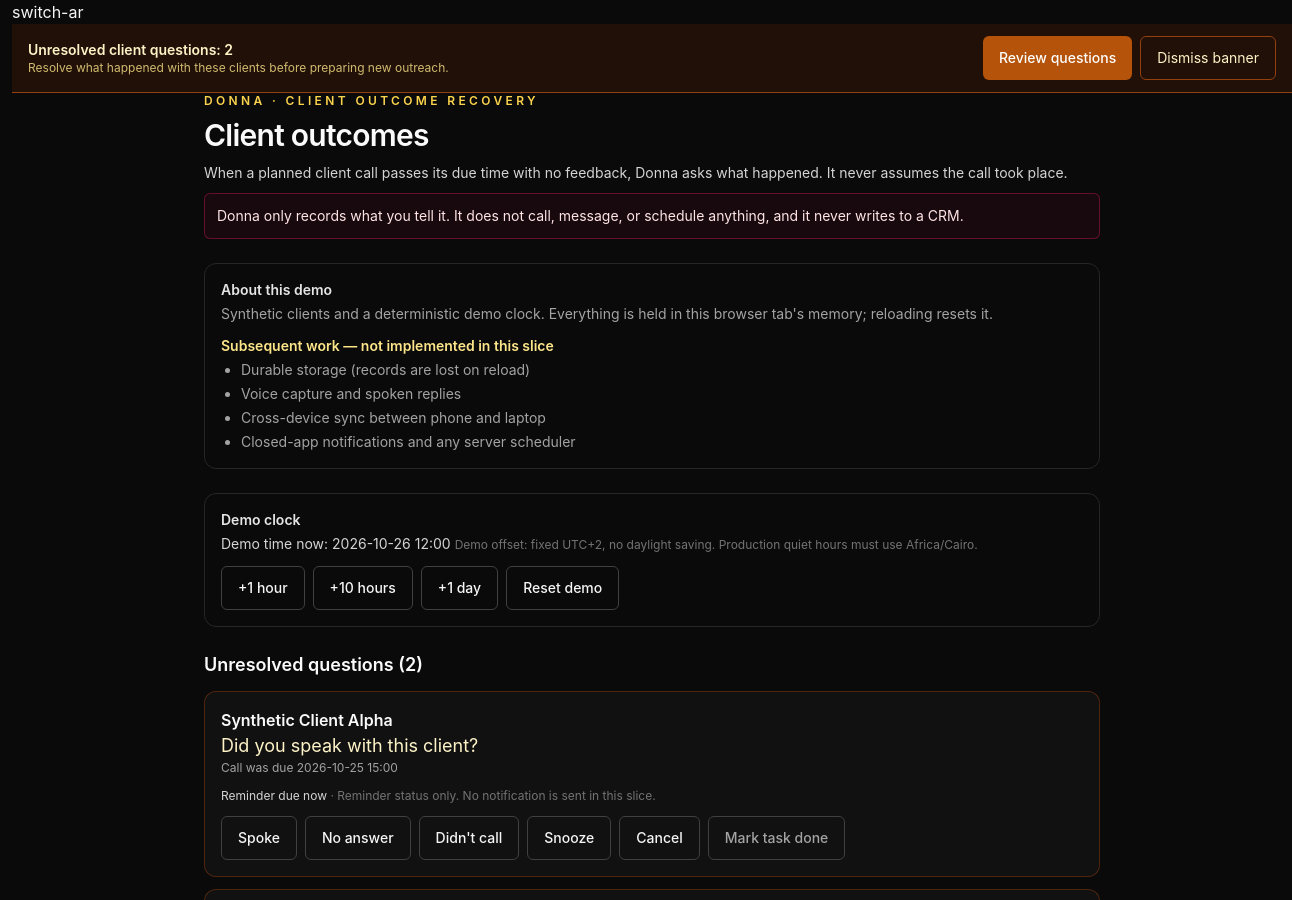
Test: Donna inbox (English) › Gamma (due 13:00Z) needs three +1 hour clicks from the 10:00Z demo start
Click the button "+1 hour" at [263, 588], box x1=221 y1=566 x2=305 y2=610
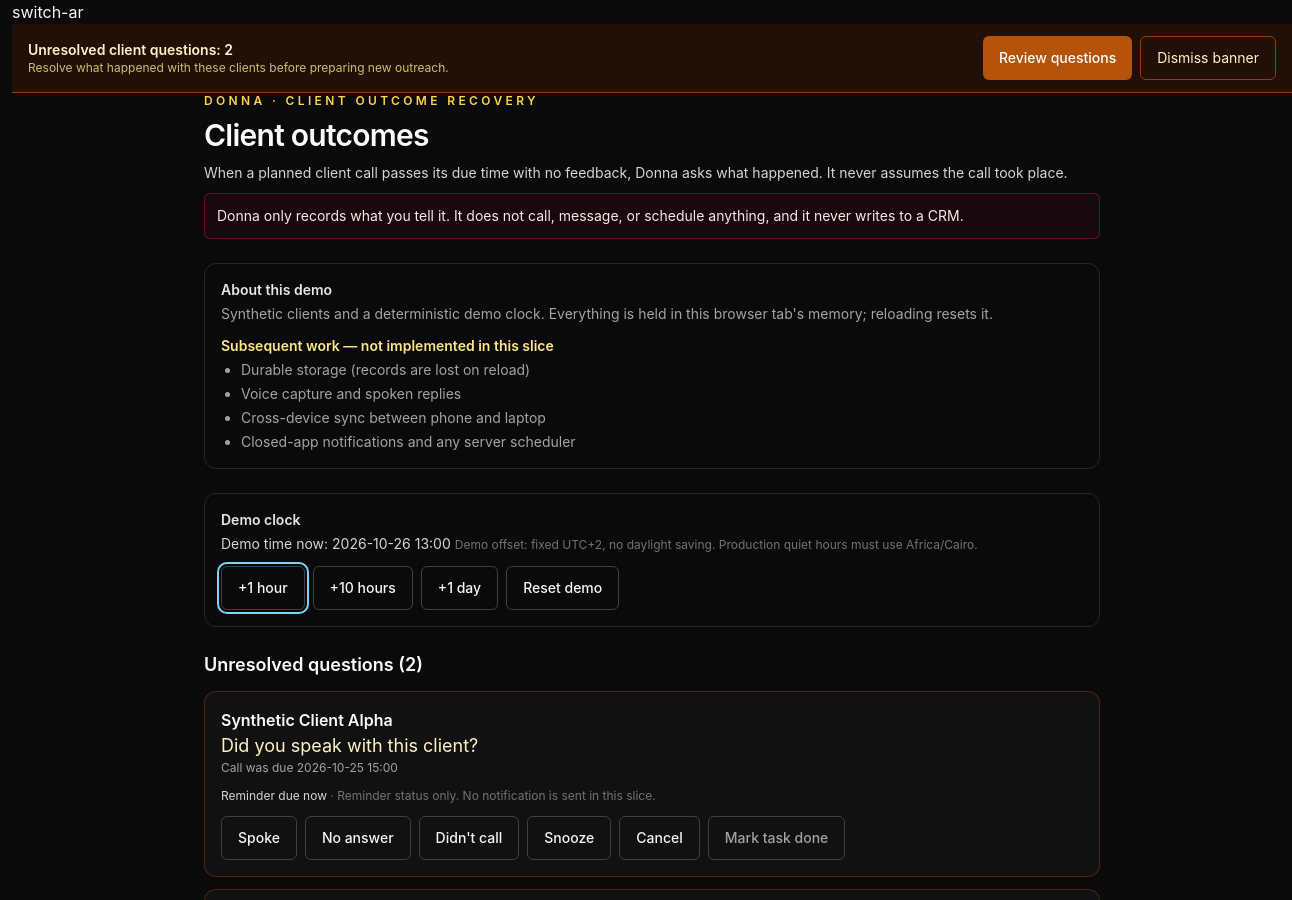
Click the button "+1 hour" at [263, 588], box x1=221 y1=566 x2=305 y2=610
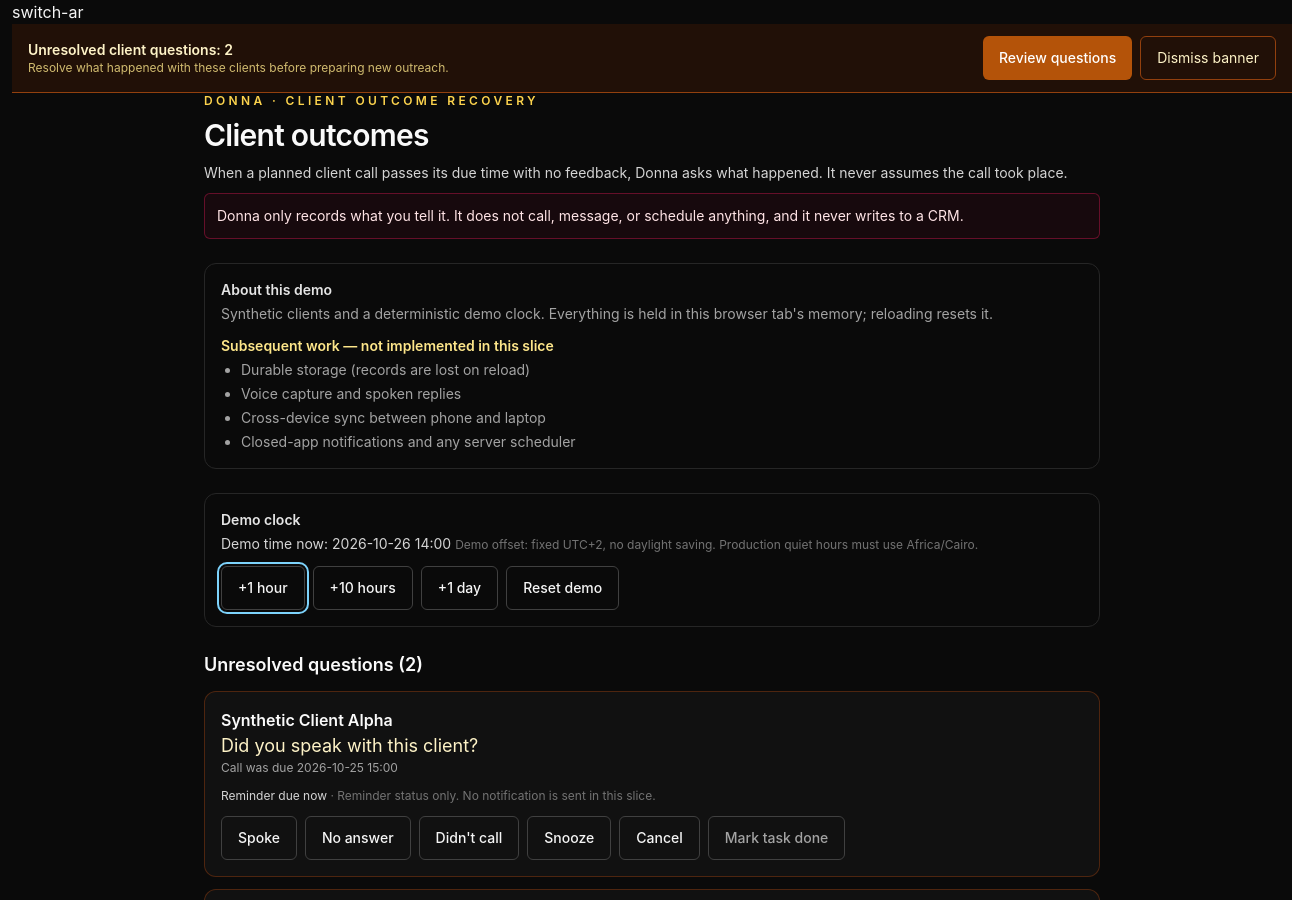
Click the button "+1 hour" at [263, 588], box x1=221 y1=566 x2=305 y2=610
(page scrolled)
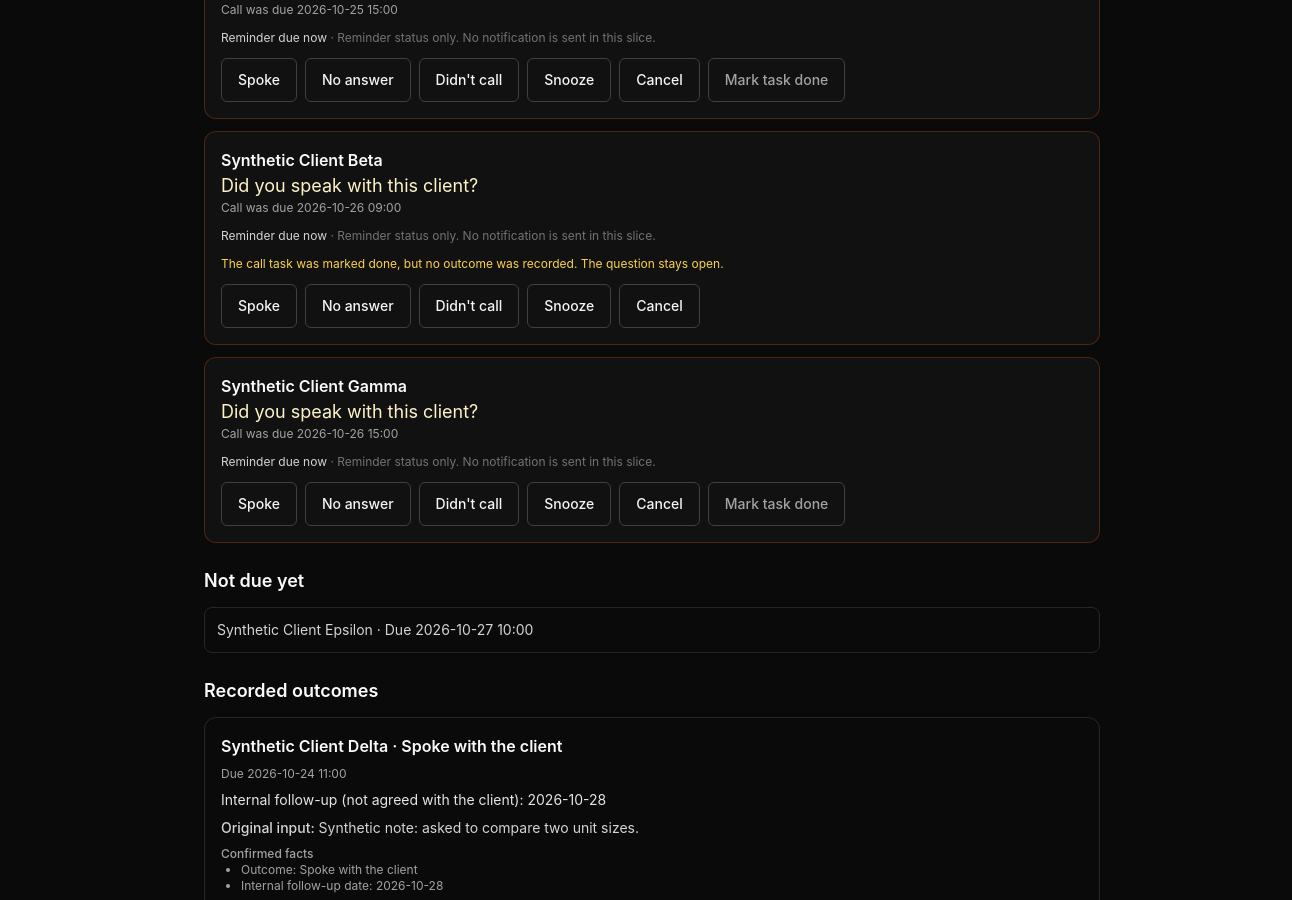
Expected: the element with test id "donna-question-call-gamma" is shown, x1=204 y1=357 x2=1100 y2=543
